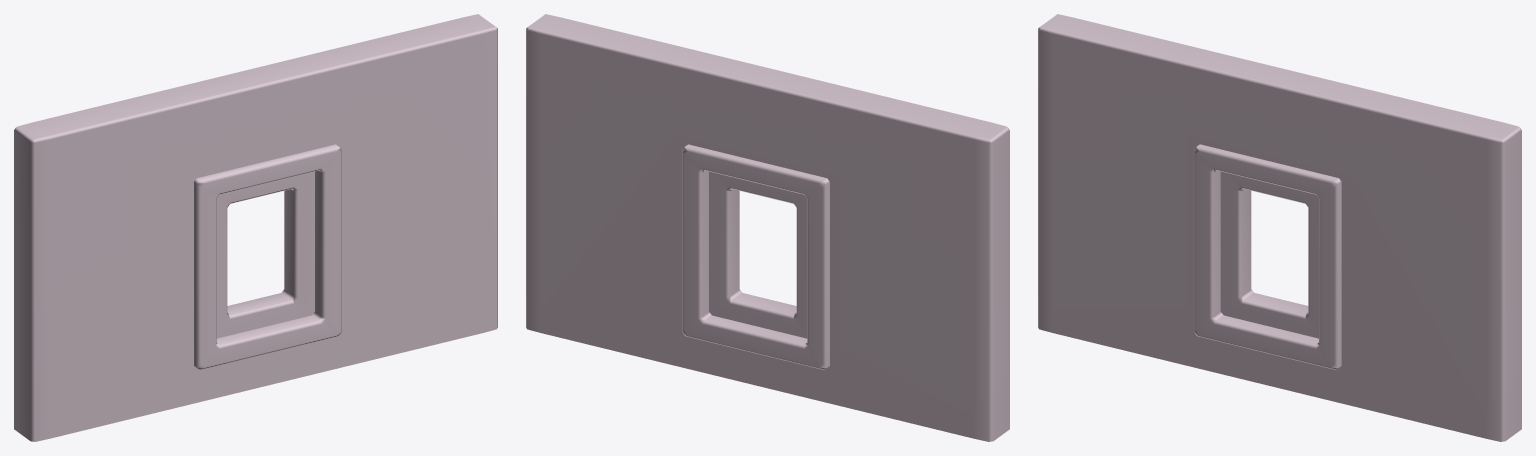
The model's file is mod_sc_roma_001_ar02_wall_001.fbx.
3 renders of one model, left to right at view 1: azimuth 30°, elevation 25°; view 2: azimuth 150°, elevation 25°; view 3: azimuth 330°, elevation 25°, orthographic.
Visible parts, largest first — view 1: mod_sc_roma_001_ar02_wall_001; view 2: mod_sc_roma_001_ar02_wall_001; view 3: mod_sc_roma_001_ar02_wall_001.
Part boxes in pixels (x1,y1,x2,y2): mod_sc_roma_001_ar02_wall_001: (14, 14, 497, 441); mod_sc_roma_001_ar02_wall_001: (526, 14, 1009, 441); mod_sc_roma_001_ar02_wall_001: (1038, 14, 1521, 441).
Bounding box in the file's own units: 648 × 400 × 71.97.
